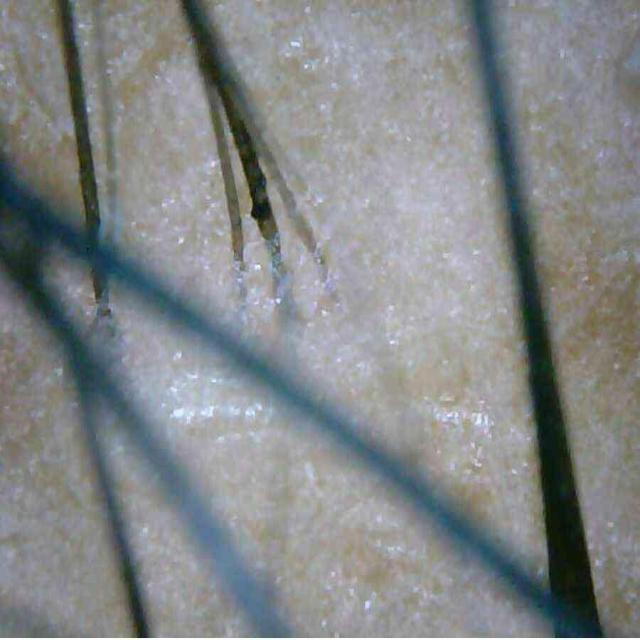o: (163, 335, 282, 435), (133, 156, 229, 270), (261, 2, 346, 88), (315, 566, 381, 639), (222, 255, 288, 325), (430, 398, 499, 446), (365, 514, 425, 569)
